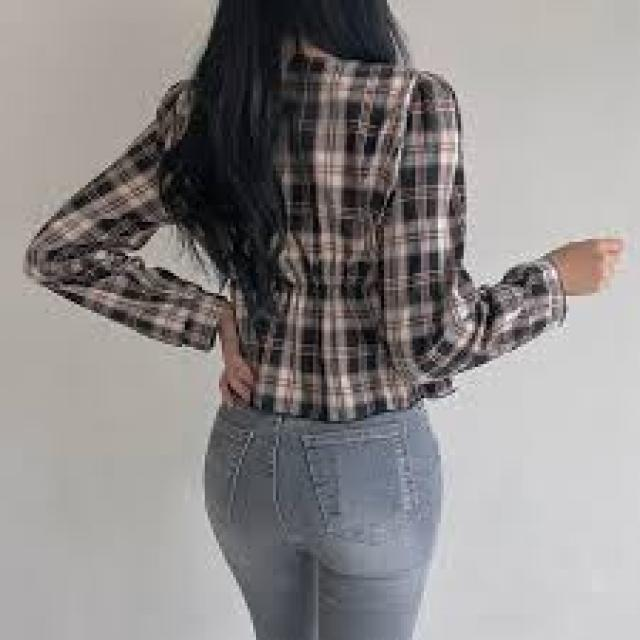plaid: (10, 61, 563, 412)
